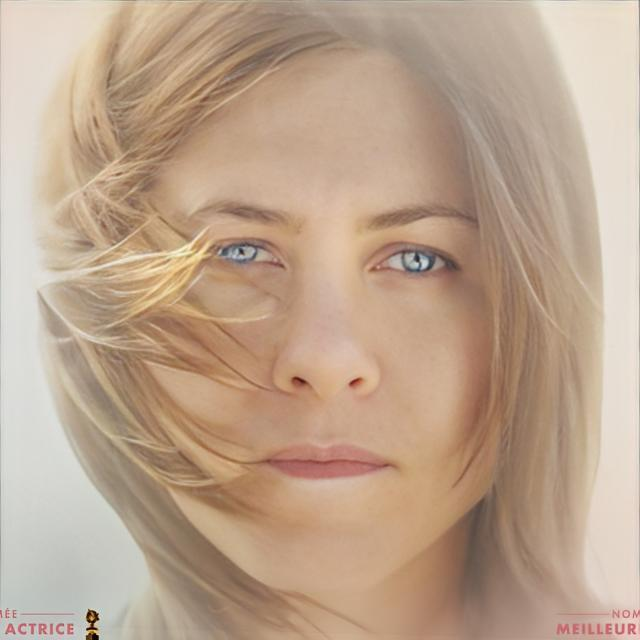neutral: (140, 50, 507, 602)
